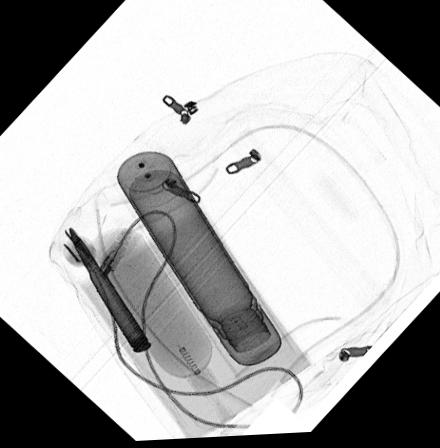Bullet: (66, 227, 151, 354)
